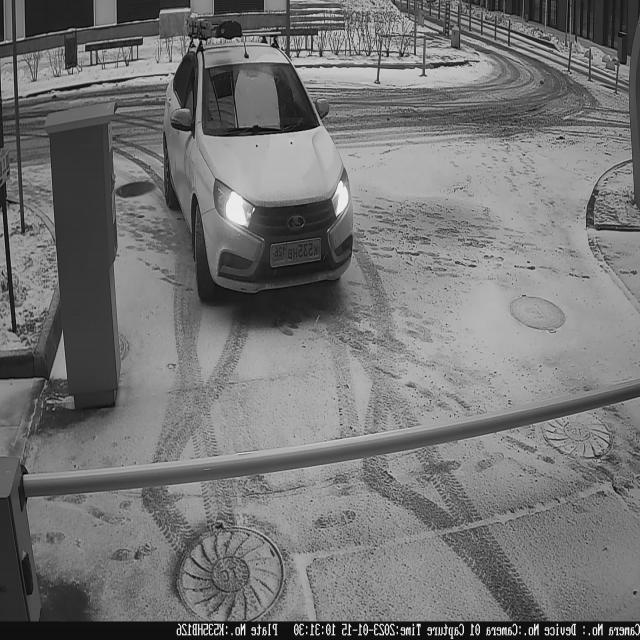car-plate-numbers: (269, 236, 324, 271)
